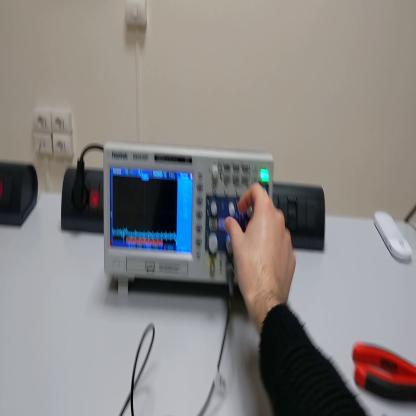hand: (226, 184, 297, 315)
oscilloscope: (104, 148, 276, 304)
pliers: (352, 341, 416, 401)
socket: (62, 161, 106, 236), (2, 161, 41, 228)
